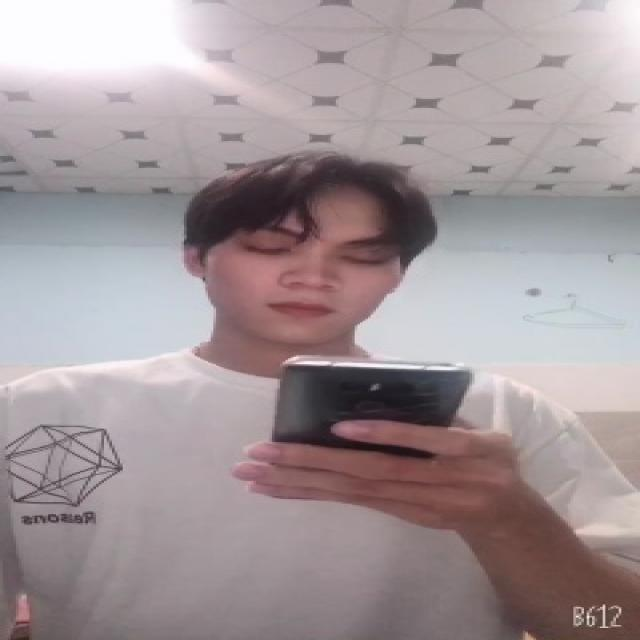Phone: (268, 350, 476, 461)
